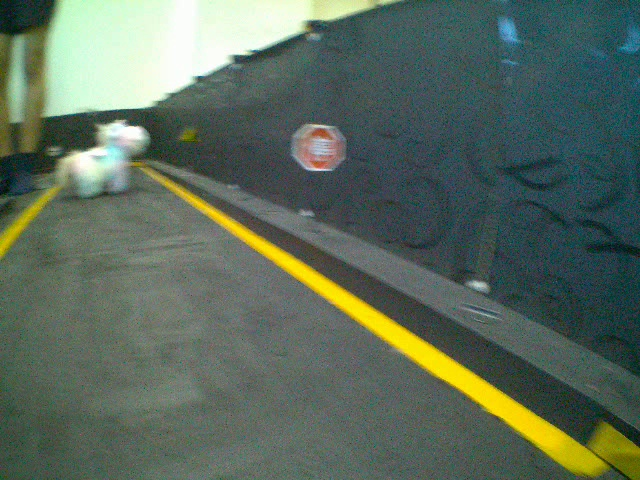unicorn: (54, 119, 152, 200)
